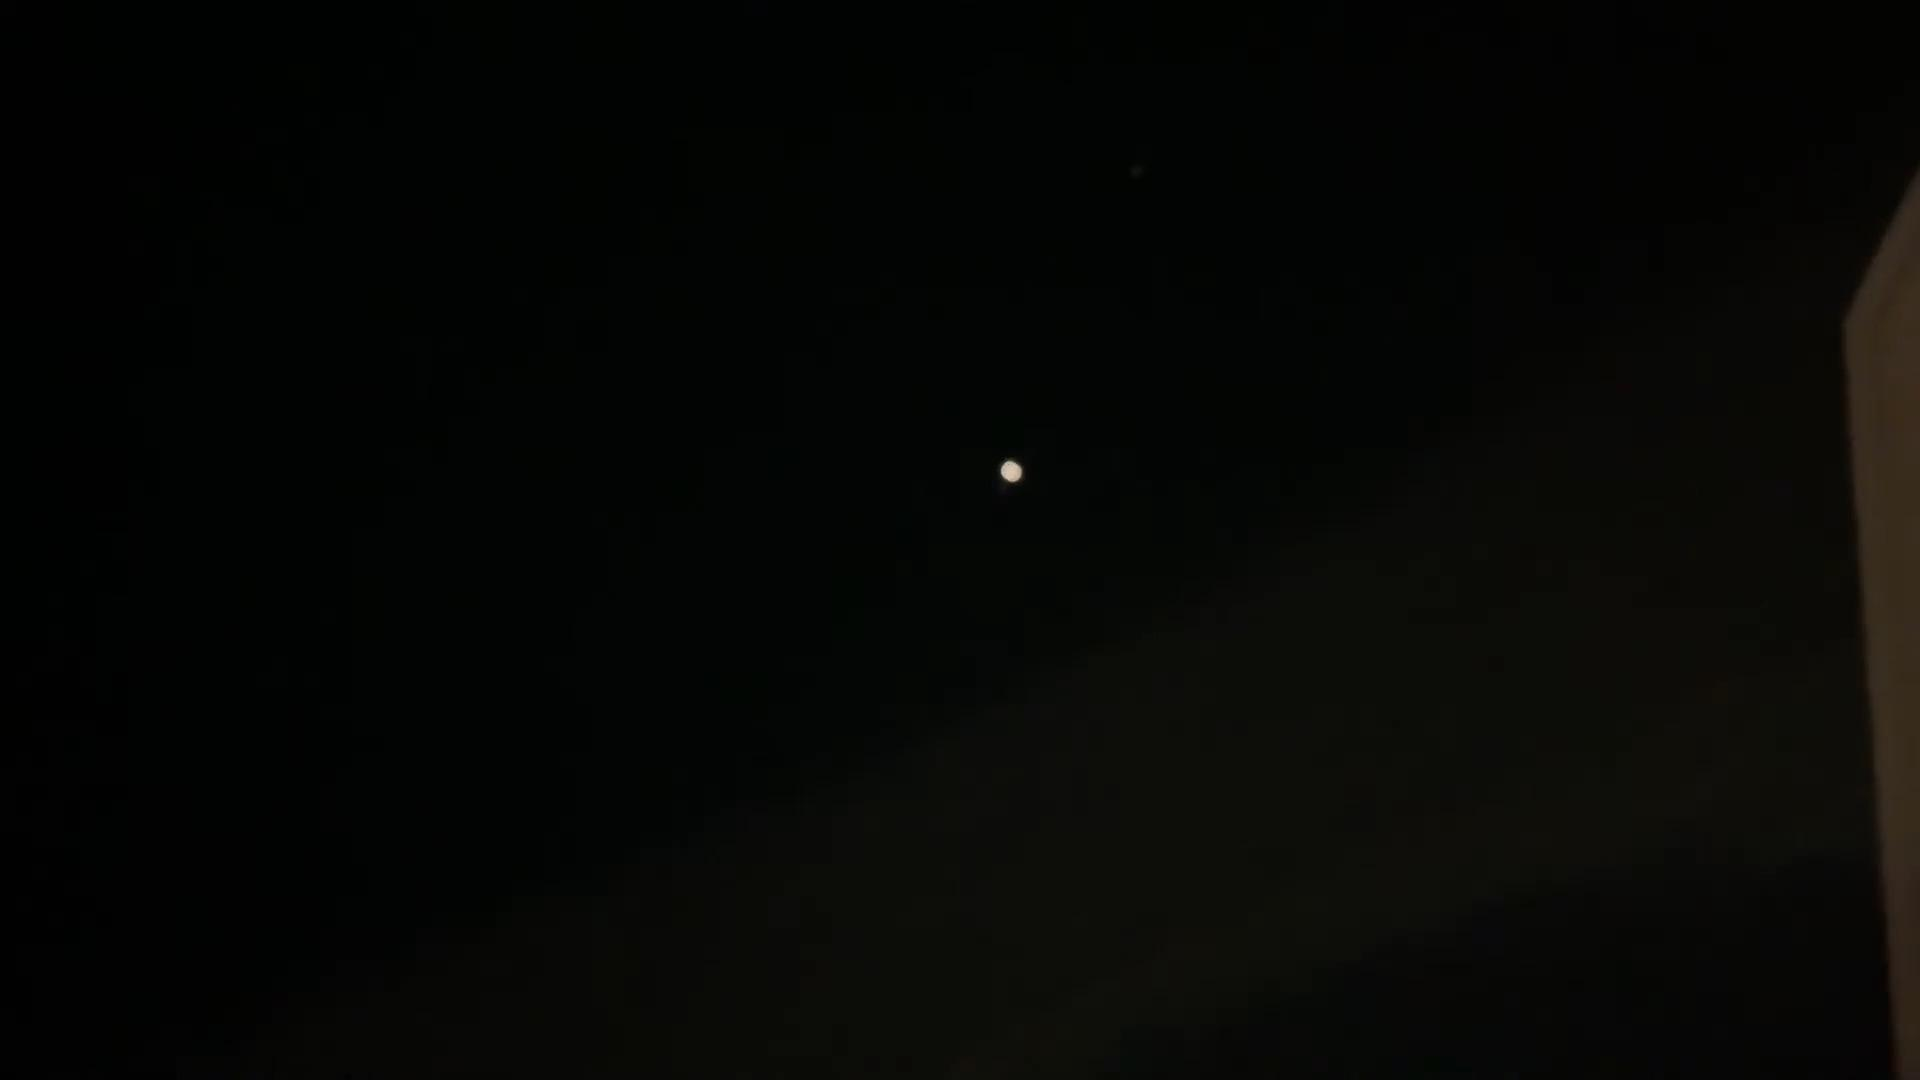Plane: (969, 436, 1052, 506)
